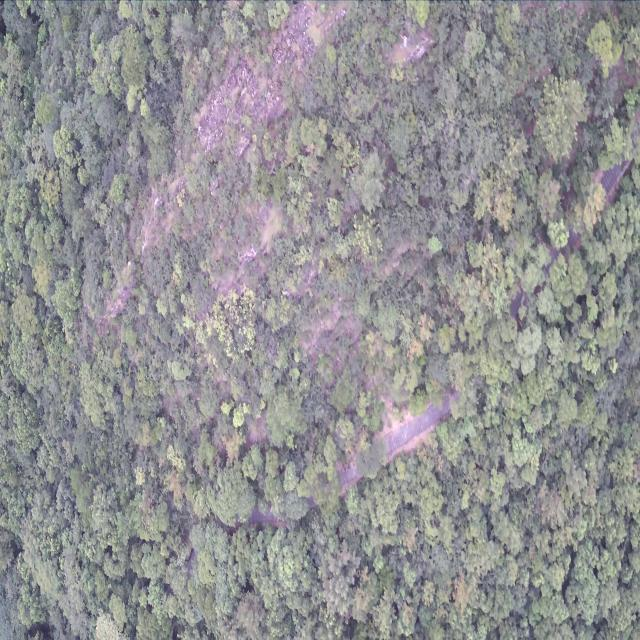drone: (399, 34, 411, 50)
